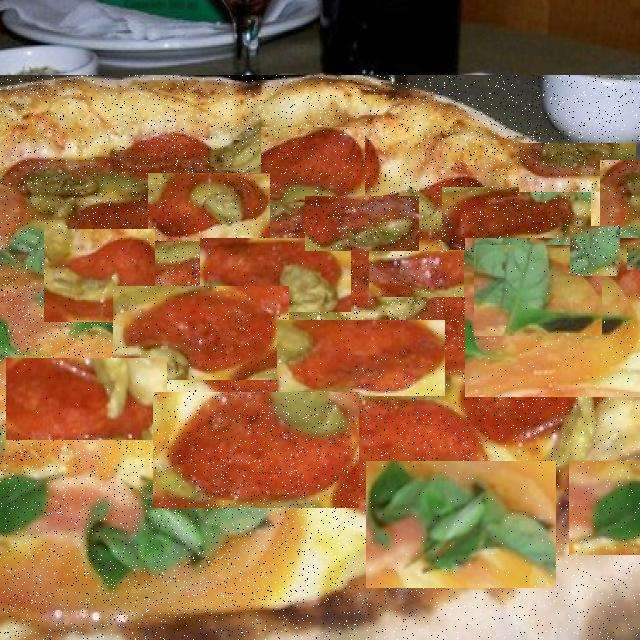Basil: (366, 461, 556, 588), (474, 245, 602, 338), (569, 461, 640, 555), (570, 226, 620, 276), (612, 320, 640, 367), (627, 396, 640, 462), (627, 245, 640, 270)
Pepperoni: (153, 392, 359, 508), (113, 286, 289, 380), (6, 358, 167, 440), (277, 320, 445, 396), (200, 238, 351, 312), (44, 229, 155, 322), (442, 187, 591, 250), (148, 173, 270, 241), (261, 127, 365, 202), (369, 251, 522, 297), (305, 196, 419, 251), (519, 144, 636, 194), (412, 126, 506, 174)
Pizza: (0, 75, 640, 640)
Tomato: (355, 366, 640, 640), (465, 238, 640, 397), (600, 161, 640, 243)
